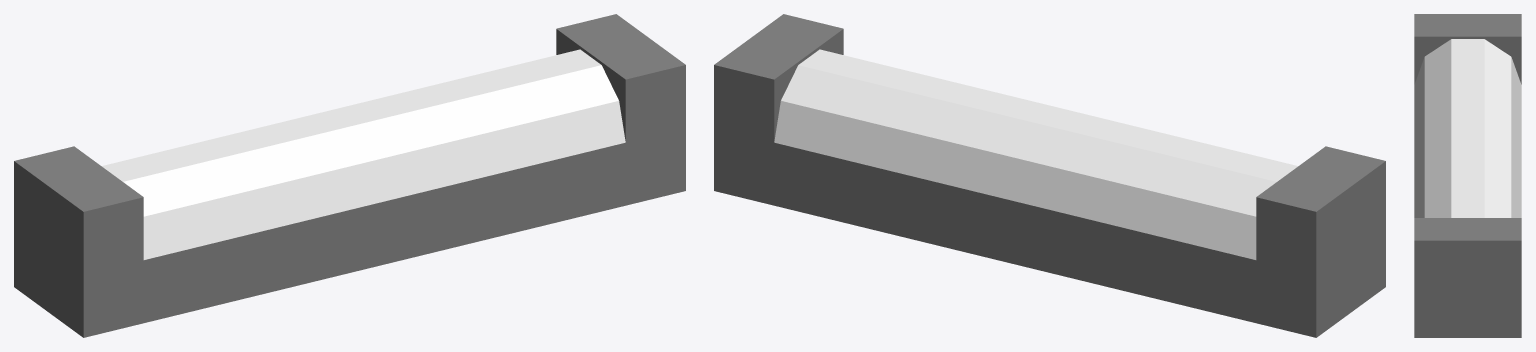
File: Light.fbx
3 views of the same model, side by side, from view 1: azimuth 30°, elevation 25°; view 2: azimuth 150°, elevation 25°; view 3: azimuth 270°, elevation 25° (orthographic). The views are drawn at different scales.
Visible parts, largest first — view 1: Light; view 2: Light; view 3: Light.
Boxes of the visible parts, x1,y1,x2,y2 form: Light: (14, 14, 685, 337); Light: (714, 14, 1385, 337); Light: (1414, 14, 1521, 337).
Bounding box in the file's own units: 1000 × 200 × 200.
